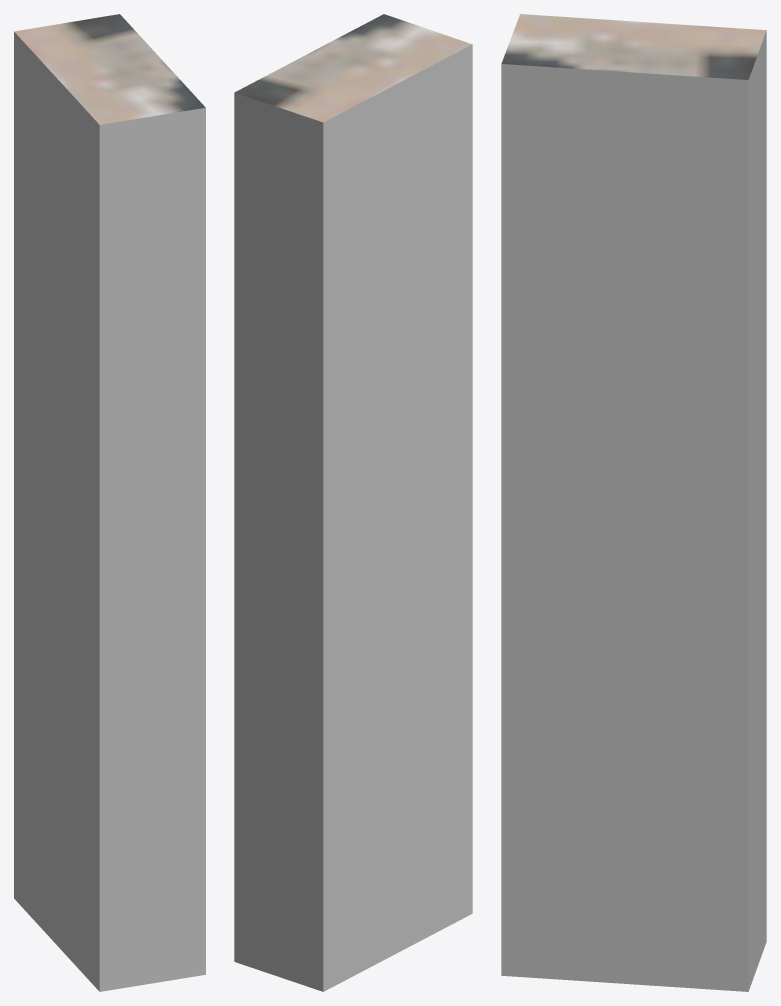
The model's file is DEBW_0010007THYg.gltf.
3 views of the same model, side by side, from view 1: azimuth 30°, elevation 25°; view 2: azimuth 150°, elevation 25°; view 3: azimuth 270°, elevation 25° (orthographic). The views are drawn at different scales.
Visible parts, largest first — view 1: Z_UP; view 2: Z_UP; view 3: Z_UP.
Boxes of the visible parts, left/top/right/bottom form: Z_UP: left=14, top=14, right=205, bottom=991; Z_UP: left=234, top=14, right=472, bottom=991; Z_UP: left=501, top=14, right=766, bottom=991.
Bounding box in the file's own units: 2 × 12.86 × 3.39.
Materials: 2 (1 with a texture image).
